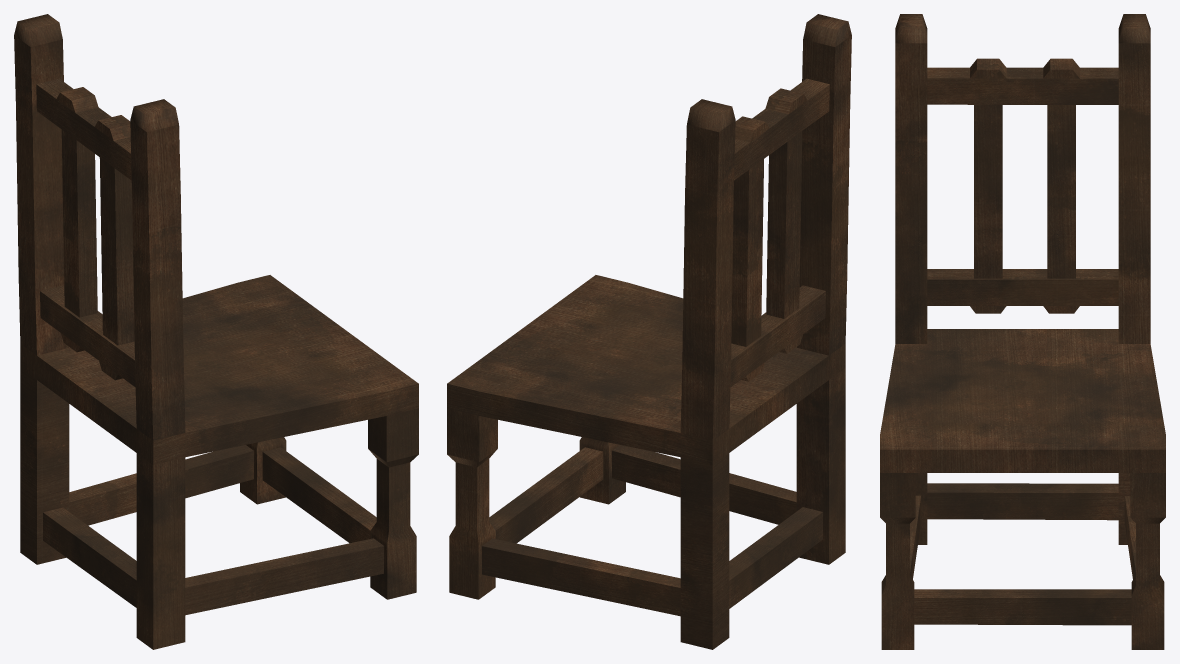
File: chair.fbx
3 renders of one model, left to right at view 1: azimuth 30°, elevation 25°; view 2: azimuth 150°, elevation 25°; view 3: azimuth 270°, elevation 25°, orthographic. The views are drawn at different scales.
Parts seen in each view (by area): view 1: chair_UV:chair; view 2: chair_UV:chair; view 3: chair_UV:chair.
Boxes of the visible parts, box(x1,y1,x2,y2) form: chair_UV:chair: box(14, 14, 418, 649); chair_UV:chair: box(447, 14, 851, 649); chair_UV:chair: box(880, 14, 1165, 649).
Size of the model in its own units: 7.98 by 15.44 by 7.79.
1 material, 1 textured.
